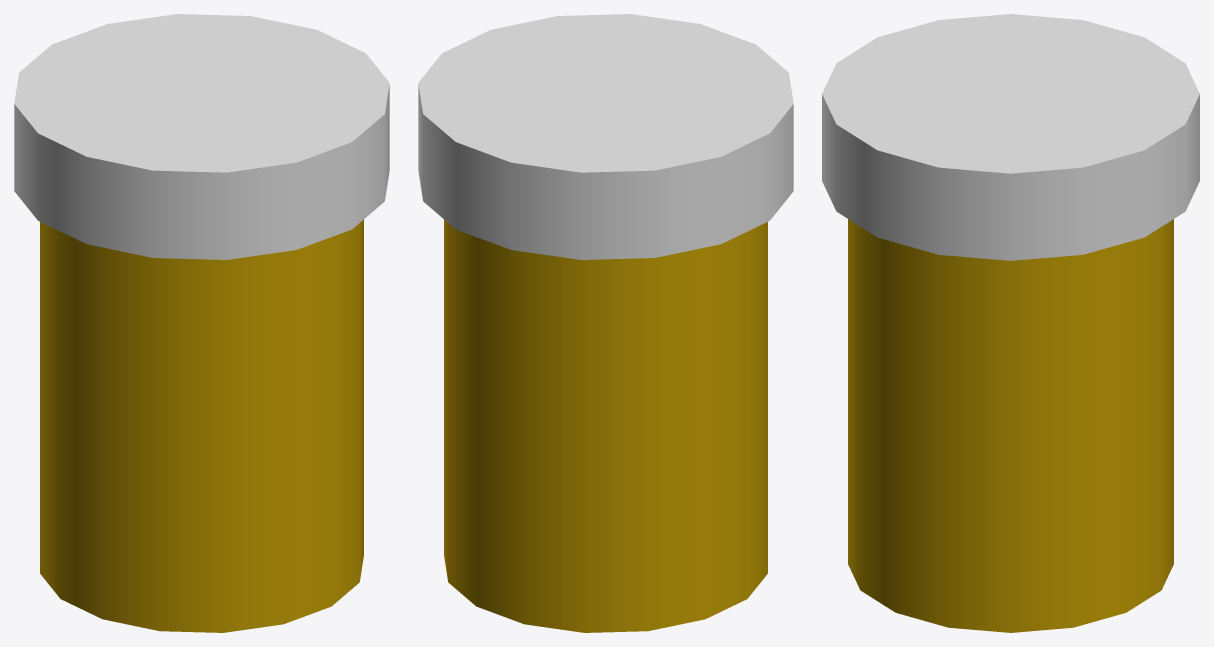
File: meds.fbx
3 renders of one model, left to right at view 1: azimuth 30°, elevation 25°; view 2: azimuth 150°, elevation 25°; view 3: azimuth 270°, elevation 25°, orthographic.
Visible parts, largest first — view 1: pCylinder1; view 2: pCylinder1; view 3: pCylinder1.
Part boxes in pixels (x1,y1,x2,y2): pCylinder1: (14,14,389,632); pCylinder1: (418,14,793,632); pCylinder1: (822,14,1199,632).
Size of the model in its own units: 0.2711 by 0.3722 by 0.2711.
